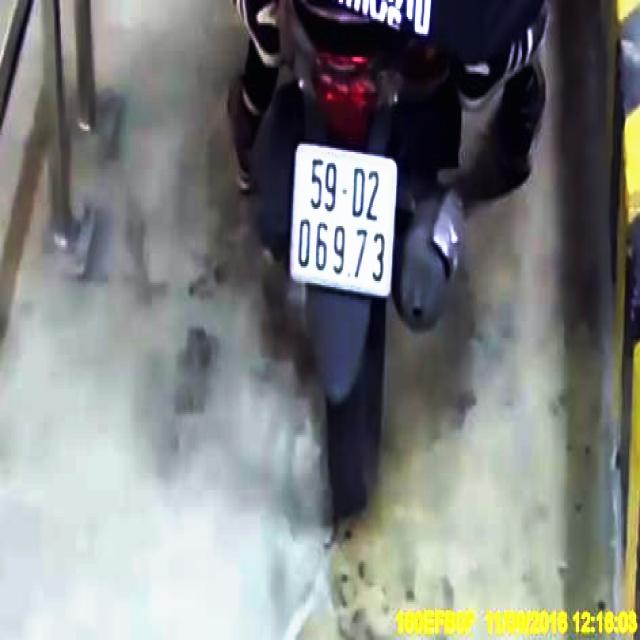license_plate: (295, 147, 396, 295)
